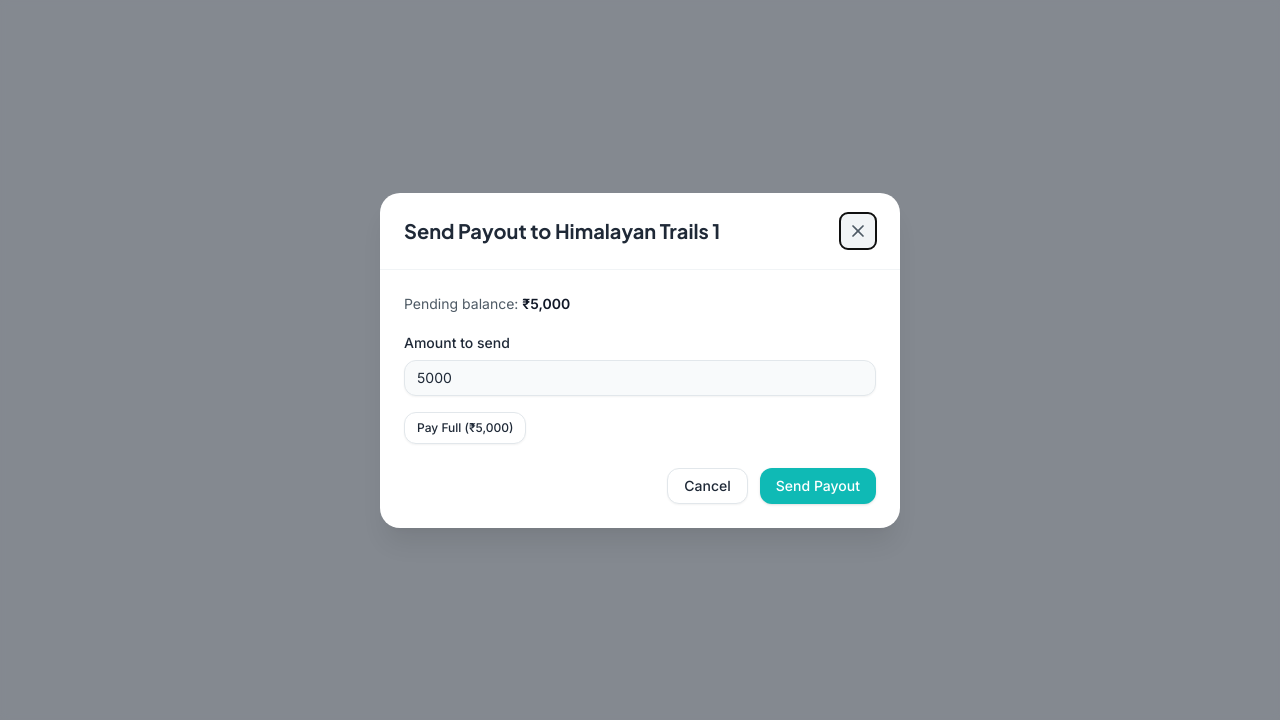
SendPayoutModal › keeps the modal open when the release result status is "failed"
This screenshot has width=1280, height=720.
Click the button "Send Payout". click: (818, 486)
box: [760, 468, 876, 504]
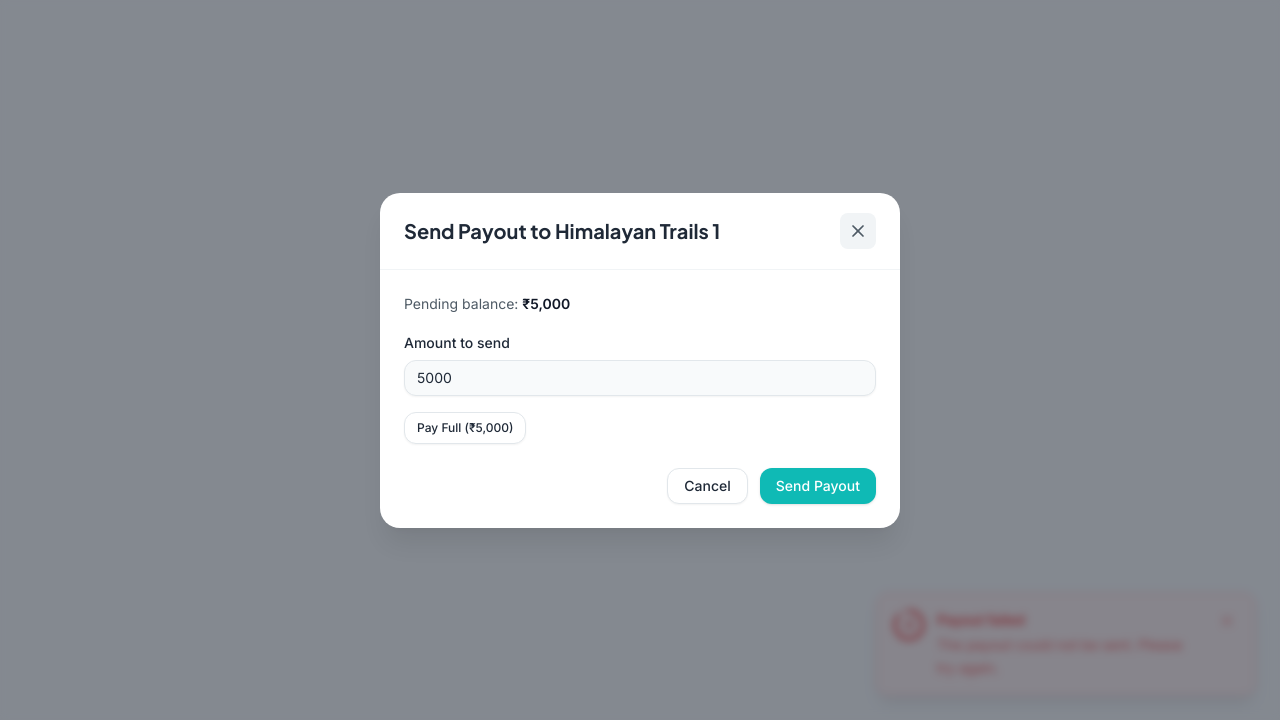
expect the text "Payout failed" is shown: met, box [937, 611, 1025, 628]
